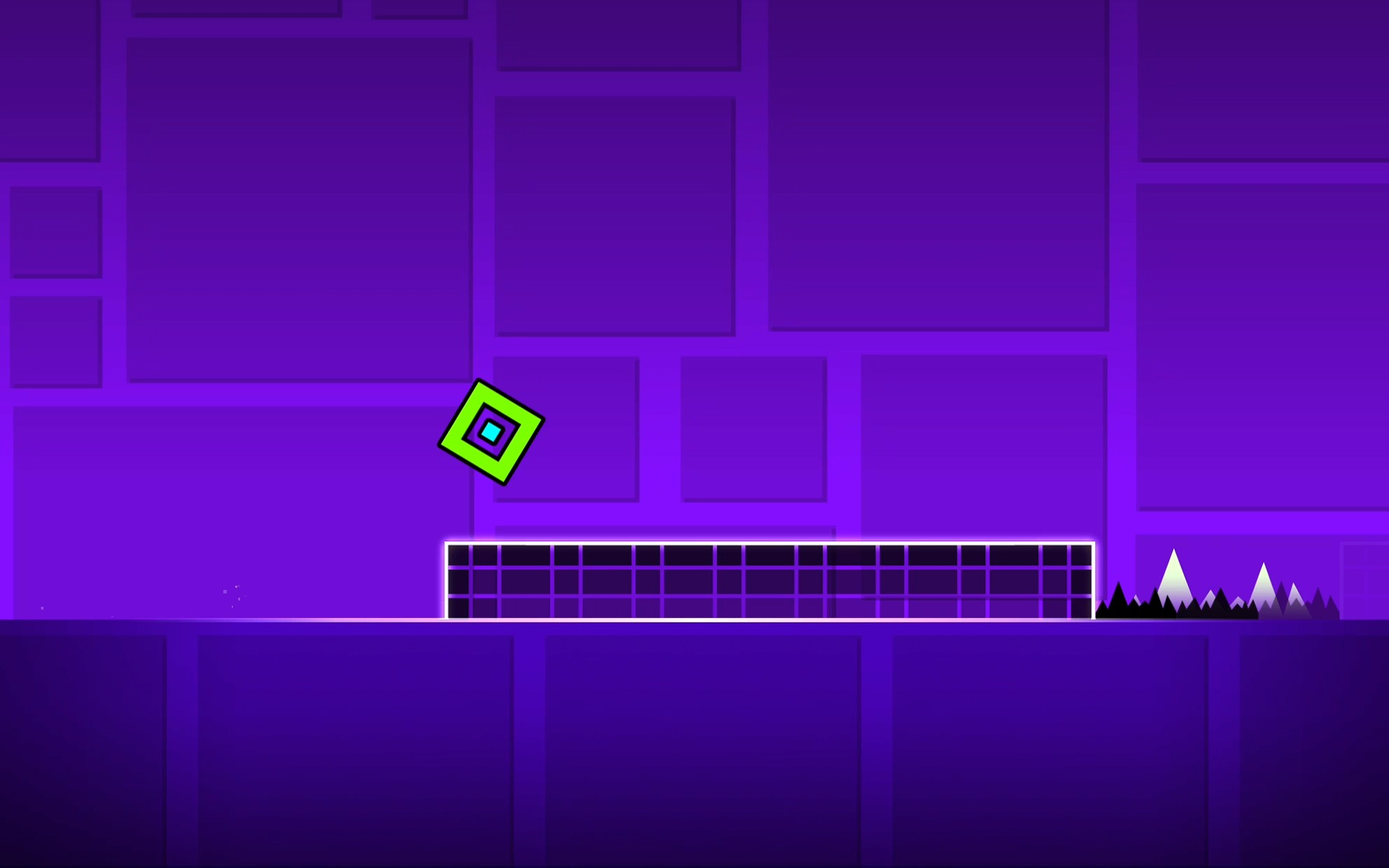Block2: (447, 540, 1087, 615)
Player: (437, 379, 545, 482)
Spike3: (1094, 585, 1343, 621)
